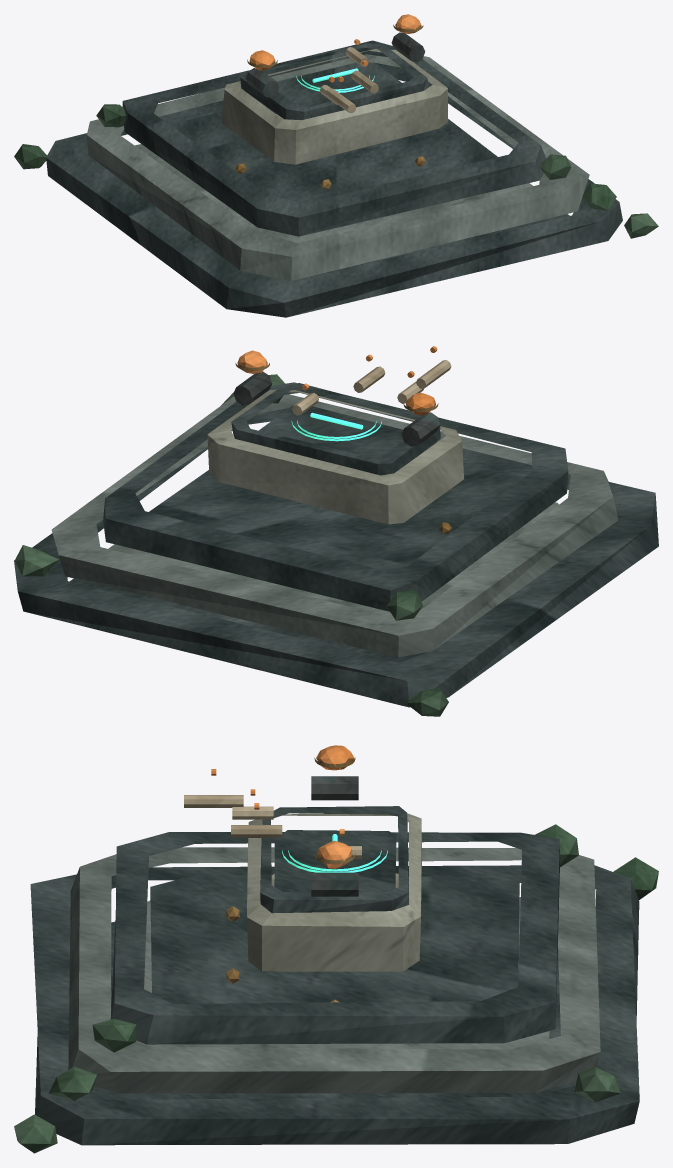
File: 0467_altar_17.glb
The picture shows the model from 3 angles, top to bottom: view 1: azimuth 30°, elevation 25°; view 2: azimuth 150°, elevation 25°; view 3: azimuth 270°, elevation 25°; orthographic projection. The views are drawn at different scales.
Parts seen in each view (by area): view 1: stone_dark, stone, stone_light, moss, iron, bone, amber, brass; view 2: stone_dark, stone, stone_light, moss, iron, bone, amber, glow; view 3: stone_dark, stone, stone_light, moss, iron, bone, amber, brass, glow.
Boxes of the visible parts, x1,y1,x2,y2 form: stone_dark: [46, 40, 622, 317]; stone: [86, 54, 589, 280]; stone_light: [221, 49, 447, 164]; moss: [14, 66, 658, 238]; iron: [245, 32, 425, 97]; bone: [320, 47, 378, 113]; amber: [250, 14, 421, 82]; brass: [235, 24, 425, 189]; stone_dark: [14, 382, 658, 707]; stone: [51, 394, 618, 657]; stone_light: [207, 389, 463, 524]; moss: [14, 374, 448, 716]; iron: [233, 371, 440, 446]; bone: [292, 360, 451, 415]; amber: [237, 346, 437, 415]; glow: [291, 412, 381, 441]; stone_dark: [30, 806, 639, 1145]; stone: [68, 847, 600, 1093]; stone_light: [247, 813, 421, 971]; moss: [14, 824, 658, 1153]; iron: [311, 776, 358, 896]; bone: [184, 795, 361, 858]; amber: [211, 745, 354, 868]; brass: [226, 757, 355, 1002]; glow: [282, 834, 387, 872].
Size of the model in its own units: 3.28 by 1.29 by 3.29.
9 materials, 9 textured.
